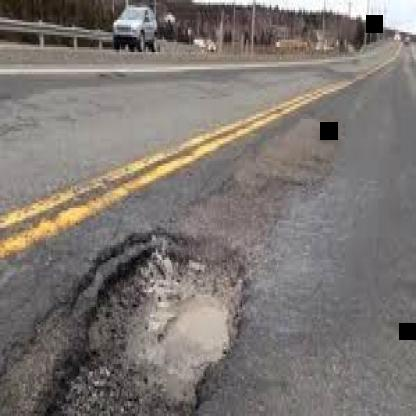car: (106, 0, 182, 65)
